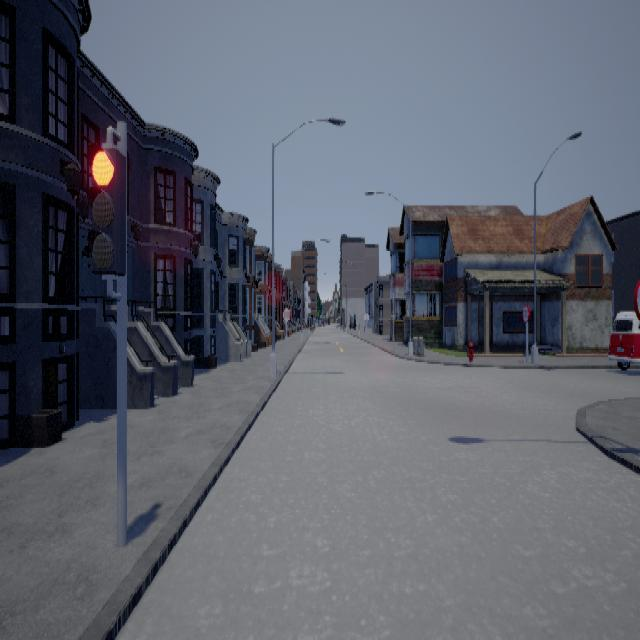red_light: (88, 124, 127, 300)
traffic_sign: (635, 278, 640, 320), (283, 305, 292, 322), (523, 303, 531, 322)
vehicle: (609, 310, 640, 369)
